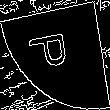P_E: (30, 32, 80, 78)
